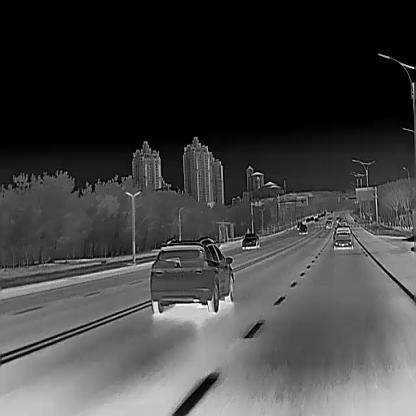car: (149, 235, 234, 312), (333, 224, 353, 249), (241, 232, 259, 249), (298, 224, 307, 233), (325, 220, 331, 228)
